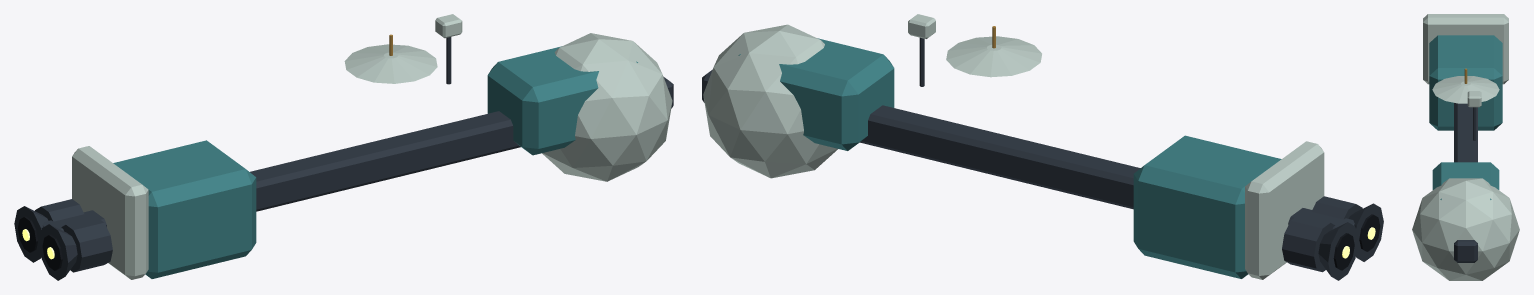
The model's file is discovery-one.glb.
3 renders of one model, left to right at view 1: azimuth 30°, elevation 25°; view 2: azimuth 150°, elevation 25°; view 3: azimuth 270°, elevation 25°, orthographic. The views are drawn at different scales.
Visible parts, largest first — view 1: reactor block, command sphere, structural spine, forward command, reactor shield, survey dish, engine jacket, engine bell, engine bell.001, engine jacket.001, sensor head, engine throat (+1 smaller); view 2: reactor block, command sphere, structural spine, forward command, reactor shield, survey dish, engine jacket.001, engine bell.001, engine bell, engine jacket, sensor head, engine throat.001 (+1 smaller); view 3: command sphere, reactor block, reactor shield, structural spine, survey dish, forward command, sensor head, radio mast.
Part boxes in pixels (x1,y1,x2,y2): reactor block: [113, 140, 256, 278]; command sphere: [542, 33, 672, 181]; structural spine: [42, 77, 673, 230]; forward command: [487, 46, 637, 155]; reactor shield: [72, 146, 148, 279]; survey dish: [344, 44, 437, 83]; engine jacket: [61, 217, 112, 272]; engine bell: [39, 224, 77, 280]; engine bell.001: [14, 206, 48, 262]; engine jacket.001: [35, 199, 83, 221]; sensor head: [435, 14, 462, 38]; engine throat: [42, 234, 62, 270]; reactor block: [1133, 135, 1281, 278]; command sphere: [703, 24, 837, 178]; structural spine: [702, 70, 1354, 229]; forward command: [738, 38, 894, 150]; reactor shield: [1245, 141, 1324, 279]; survey dish: [946, 36, 1041, 77]; engine jacket.001: [1282, 215, 1335, 272]; engine bell.001: [1318, 222, 1357, 280]; engine bell: [1348, 203, 1383, 261]; engine jacket: [1311, 196, 1362, 219]; sensor head: [908, 14, 935, 38]; engine throat.001: [1333, 233, 1354, 270]; command sphere: [1412, 178, 1519, 280]; reactor block: [1429, 35, 1502, 130]; reactor shield: [1423, 14, 1508, 84]; structural spine: [1454, 103, 1477, 262]; survey dish: [1432, 76, 1499, 103]; forward command: [1432, 162, 1499, 199]; sensor head: [1467, 91, 1481, 107]; radio mast: [1473, 107, 1476, 140].
Bounding box in the file's own units: 12.07 × 3.5 × 2.5.
